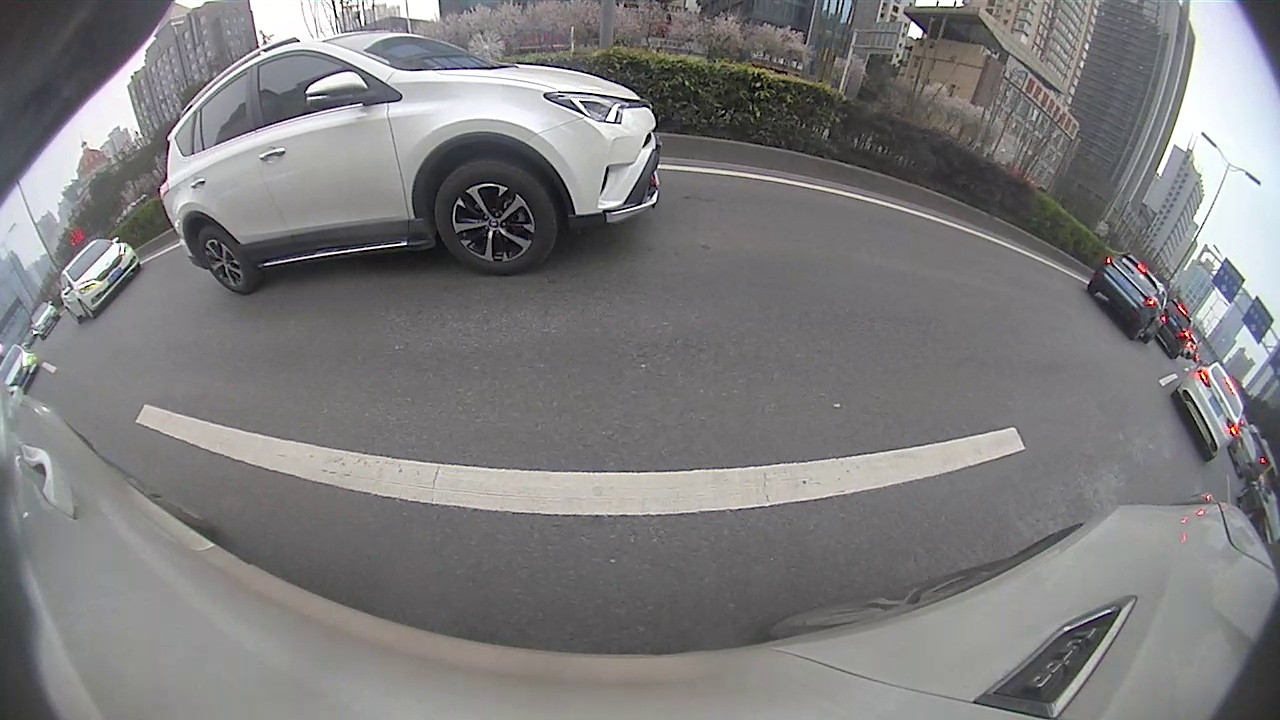car: (158, 28, 661, 297), (1086, 251, 1170, 345), (57, 235, 144, 325), (1170, 356, 1248, 454), (1150, 300, 1195, 359), (0, 342, 41, 394)
front: (438, 161, 556, 274)
rear: (197, 227, 248, 292)
